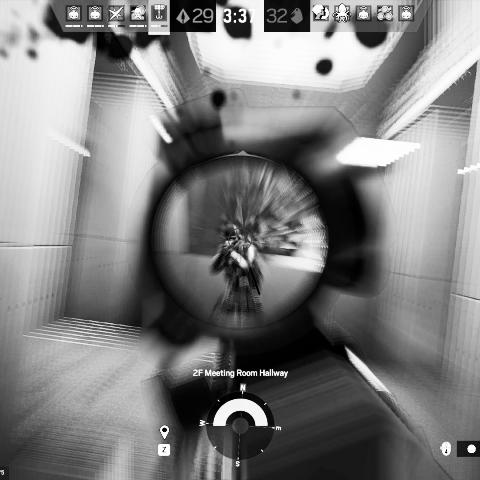Character: (208, 225, 268, 326)
Head: (223, 224, 241, 246)
